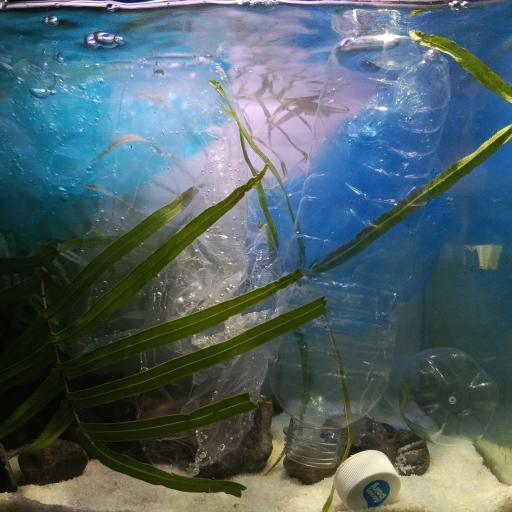bottle_cap: (330, 447, 400, 509)
plastic_bag: (0, 0, 289, 470), (252, 0, 512, 300), (0, 0, 241, 263)
plastic_bottle: (278, 39, 446, 468), (391, 338, 499, 458)
